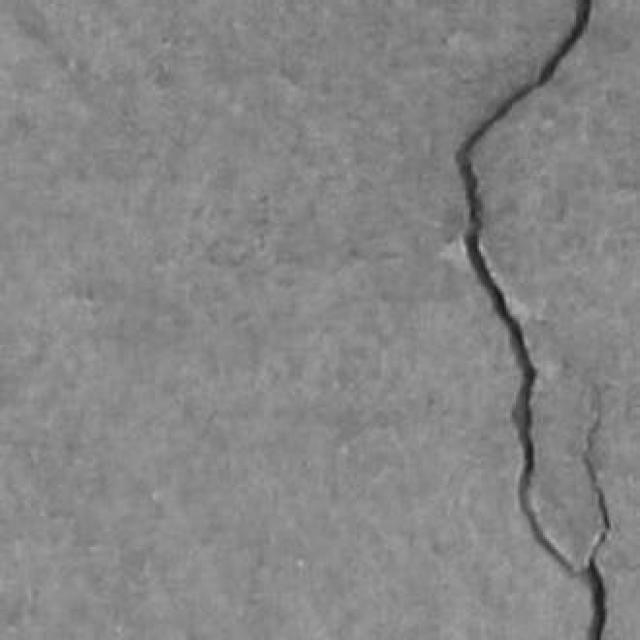crack: (456, 0, 610, 639), (582, 385, 610, 639)
